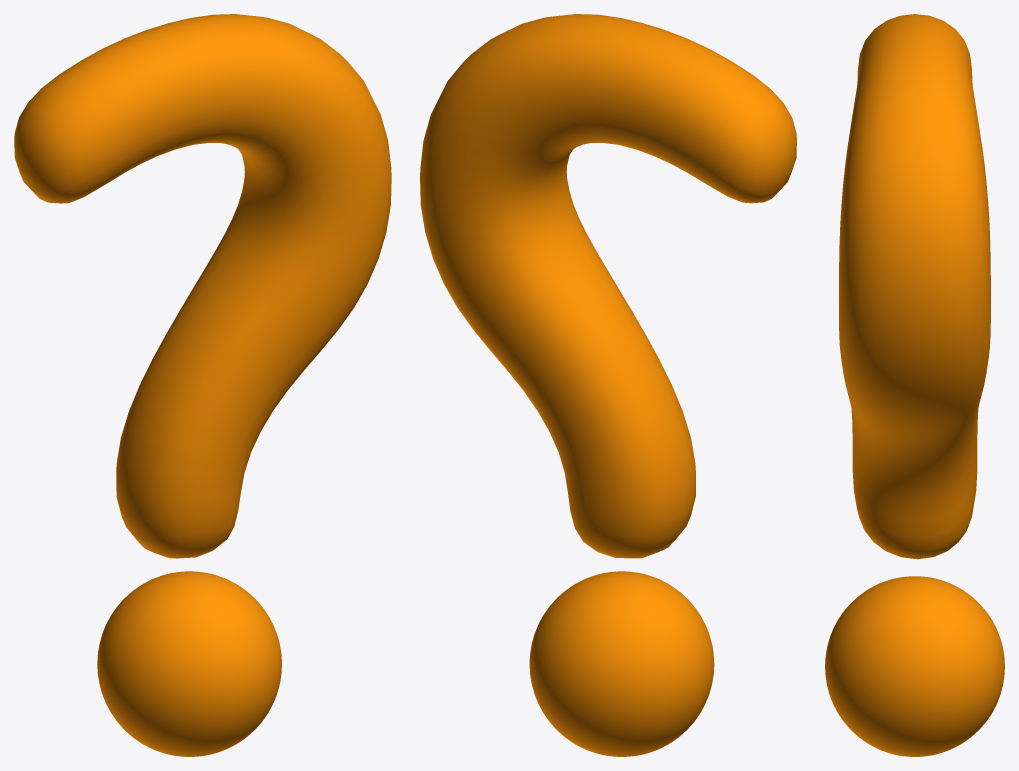
The model's file is questionmark.glb.
The picture shows the model from 3 angles, left to right: view 1: azimuth 30°, elevation 25°; view 2: azimuth 150°, elevation 25°; view 3: azimuth 270°, elevation 25°; orthographic projection. The views are drawn at different scales.
Visible parts, largest first — view 1: Object_2; view 2: Object_2; view 3: Object_2.
Part boxes in pixels (left/top/right/bottom): Object_2: left=14, top=14, right=391, bottom=756; Object_2: left=420, top=14, right=796, bottom=756; Object_2: left=825, top=14, right=1004, bottom=756.
Size of the model in its own units: 0.2506 by 0.4893 by 0.1135.
